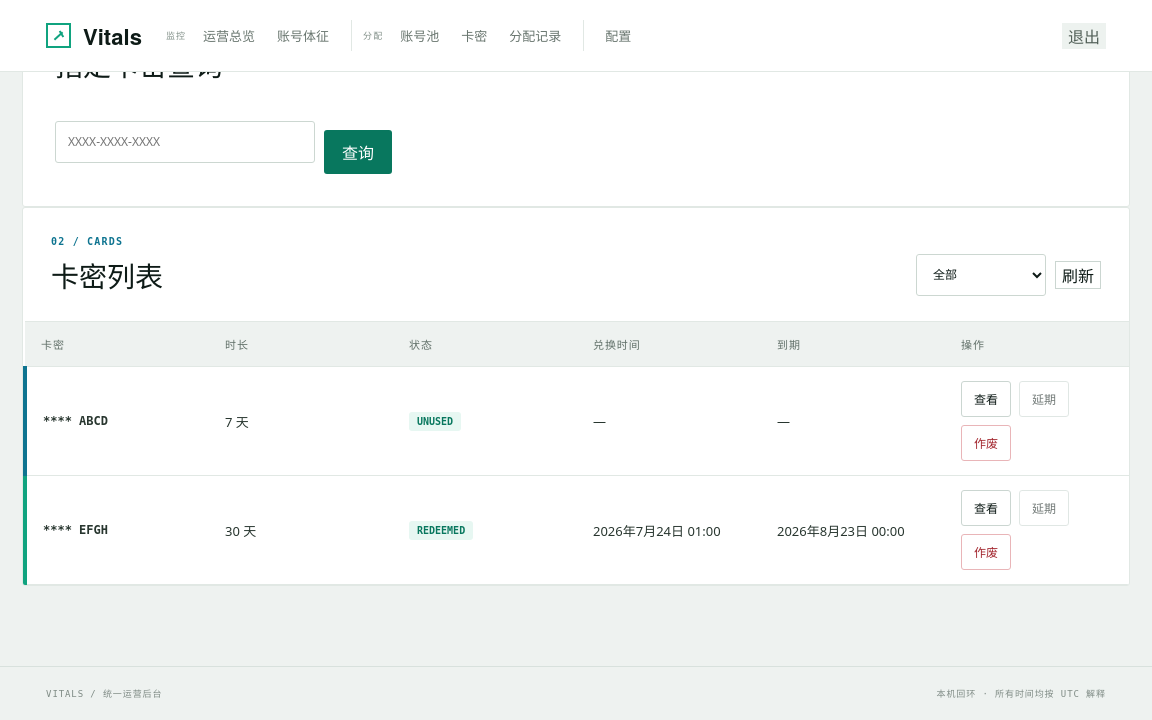
Test: P2 admin views › reveals a single card plaintext only after an explicit click
(page scrolled)
expect the text "2345-6789-ABCD" is not shown: met
What coordinates should you click on to do the following:
click the button "查看" in the row of "**** ABCD"
I would click on:
 (986, 399)
Its box is [961, 381, 1011, 417].
(page scrolled)
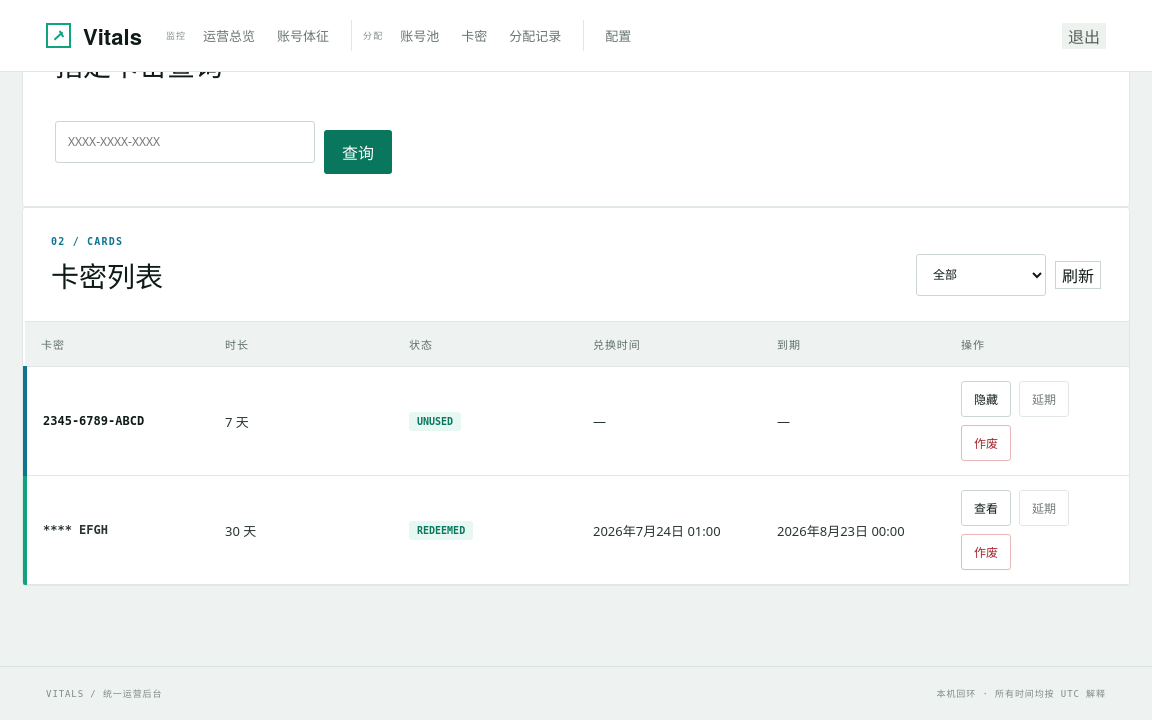
expect the text "2345-6789-ABCD" is shown: met, box [43, 414, 144, 428]
